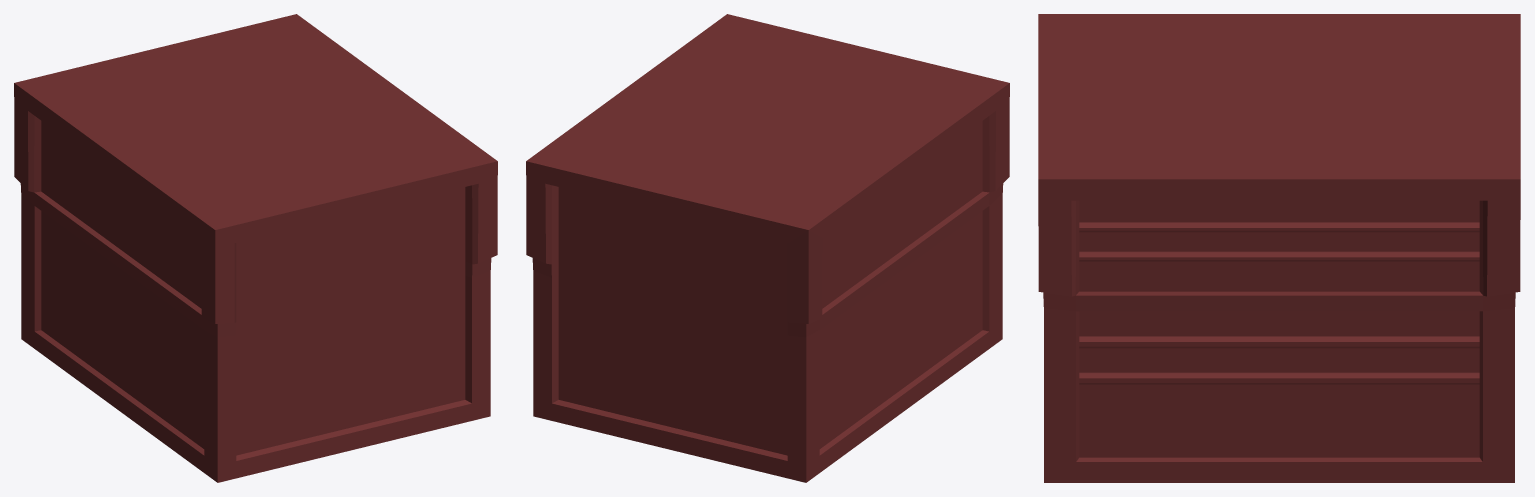
Rendered from obj_mesaLateral_001.fbx.
3 renders of one model, left to right at view 1: azimuth 30°, elevation 25°; view 2: azimuth 150°, elevation 25°; view 3: azimuth 270°, elevation 25°, orthographic. The views are drawn at different scales.
Visible parts, largest first — view 1: Cube.013; view 2: Cube.013; view 3: Cube.013.
Part boxes in pixels (x1,y1,x2,y2): Cube.013: [14, 14, 497, 482]; Cube.013: [526, 14, 1009, 482]; Cube.013: [1038, 14, 1520, 482].
Bounding box in the file's own units: 0.6801 × 0.5879 × 0.8383.
